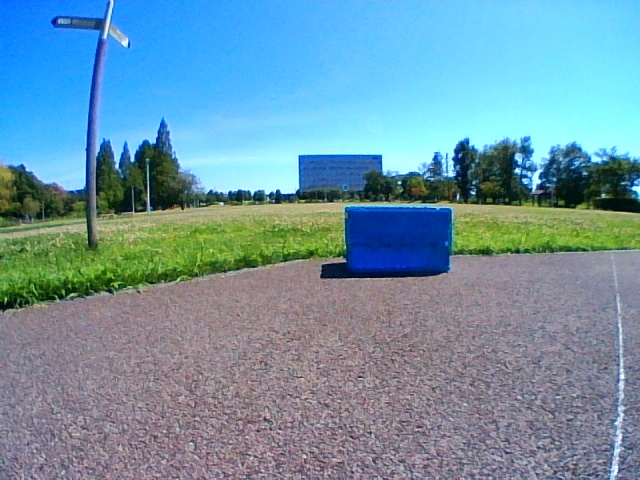blue_box: (344, 206, 451, 274)
